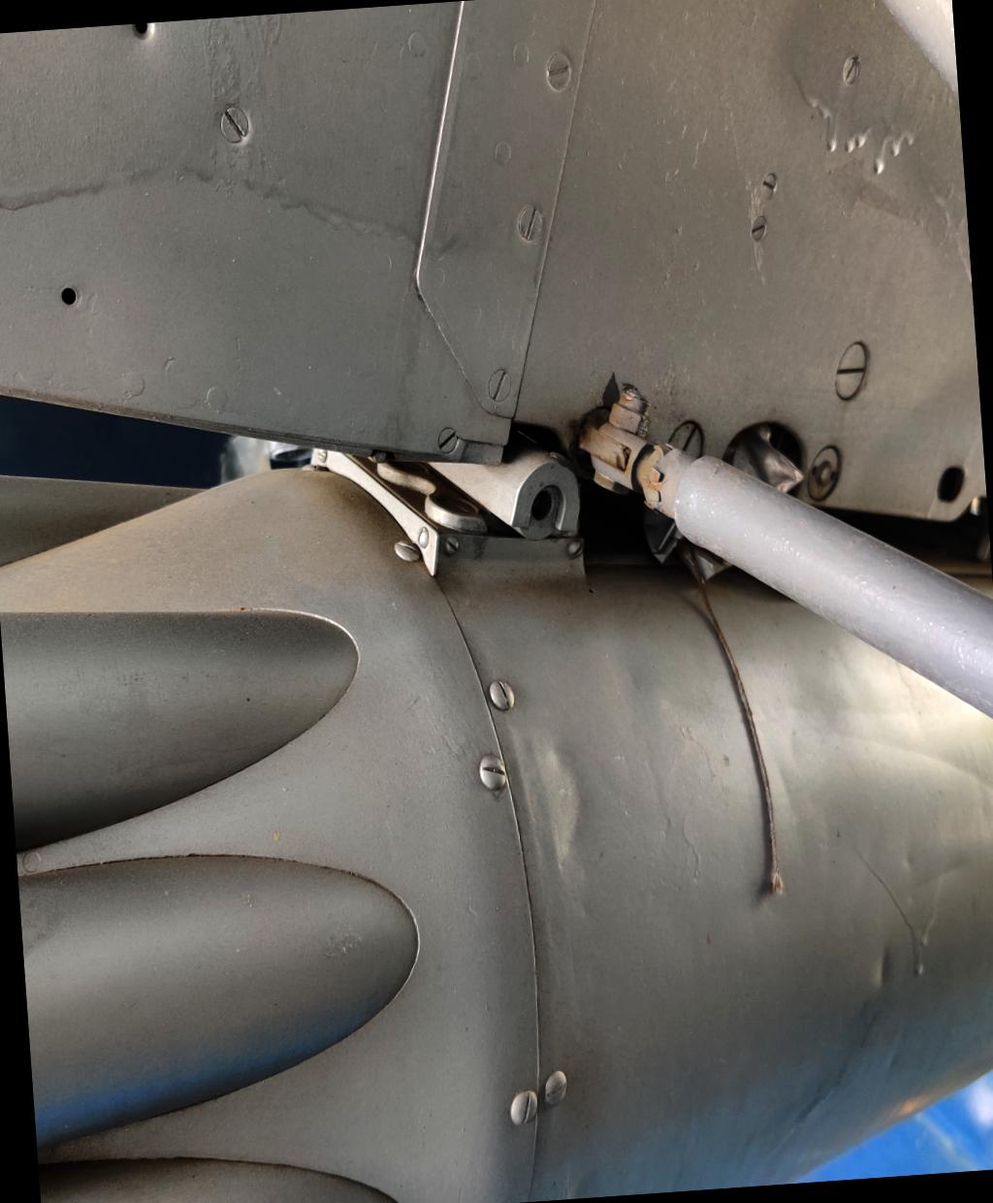dent: (507, 724, 621, 880)
